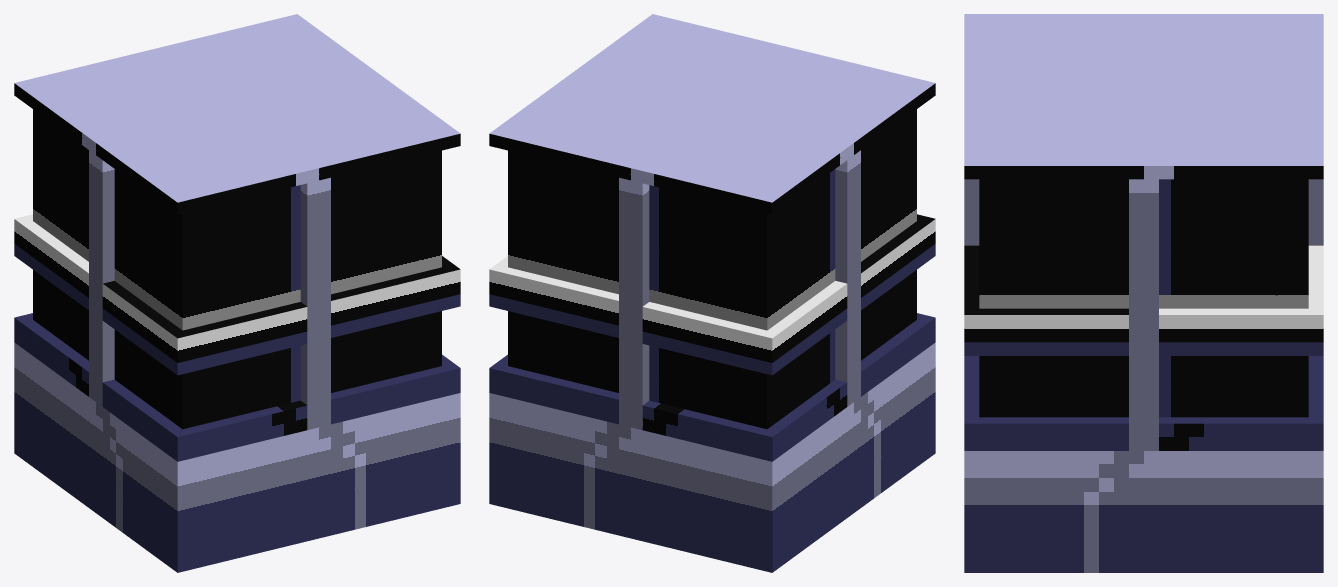
Rendered from hitek_tile_049.gltf.
The picture shows the model from 3 angles, left to right: view 1: azimuth 30°, elevation 25°; view 2: azimuth 150°, elevation 25°; view 3: azimuth 270°, elevation 25°; orthographic projection. The views are drawn at different scales.
Parts seen in each view (by area): view 1: hitek_tile_049; view 2: hitek_tile_049; view 3: hitek_tile_049.
Boxes of the visible parts, left/top/right/bottom form: hitek_tile_049: left=14, top=14, right=460, bottom=572; hitek_tile_049: left=489, top=14, right=935, bottom=572; hitek_tile_049: left=964, top=14, right=1323, bottom=572.
Size of the model in its own units: 16 by 20 by 16.
1 material, 1 textured.
